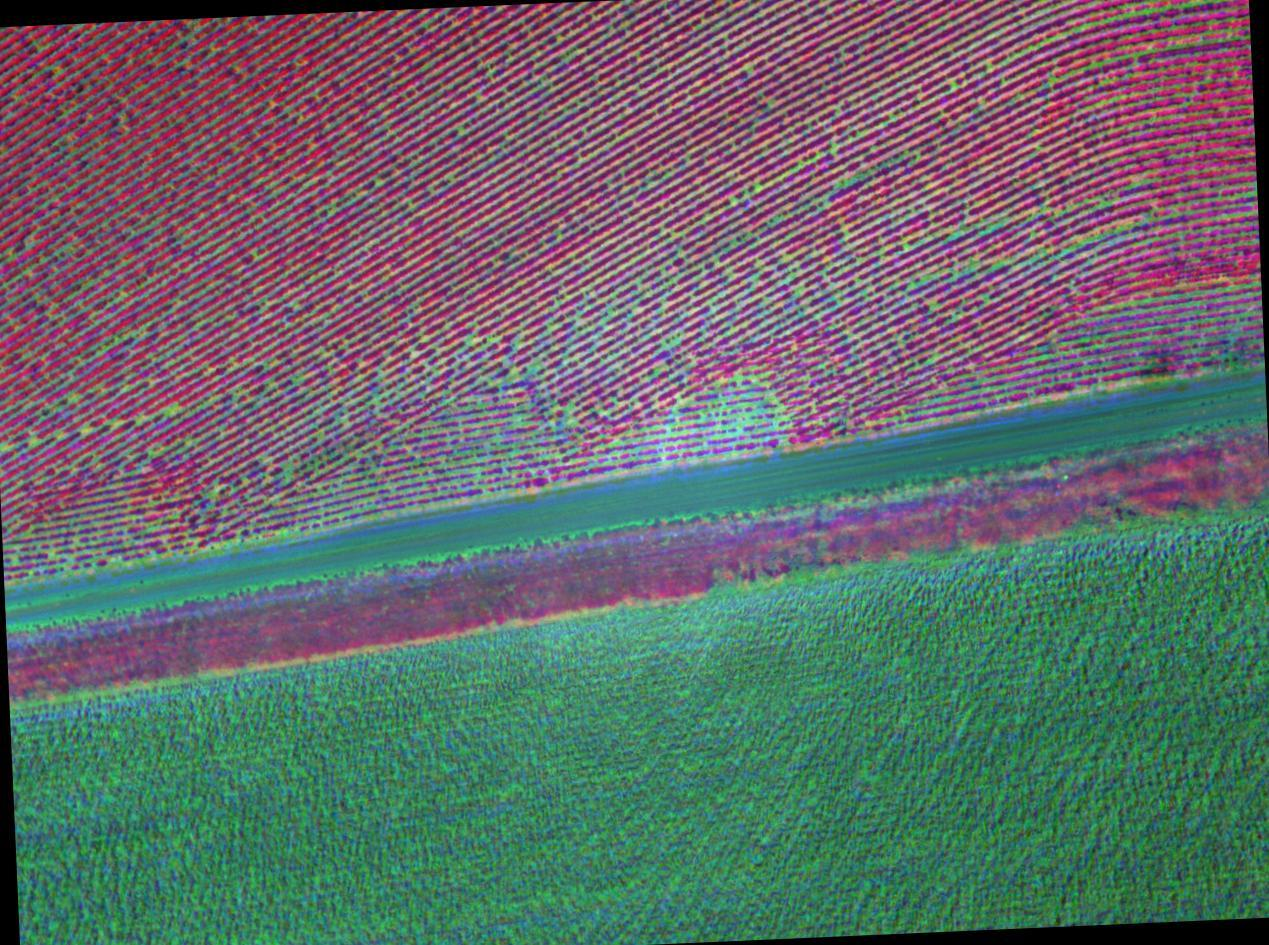dc: (731, 198, 737, 204), (167, 409, 173, 414), (72, 397, 77, 402), (84, 429, 89, 434), (460, 129, 464, 135), (448, 174, 452, 179), (663, 271, 667, 276), (493, 339, 497, 343), (377, 181, 380, 186), (256, 256, 260, 259)
